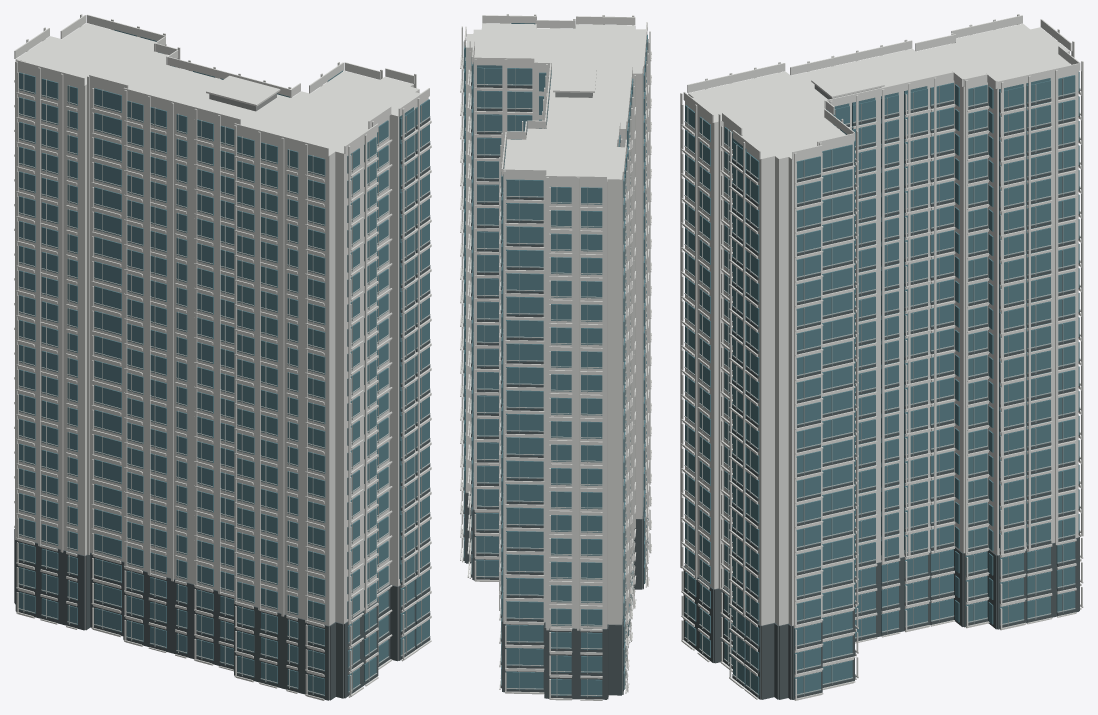
File: bespoke-acro-riverpark-102.glb
3 renders of one model, left to right at view 1: azimuth 30°, elevation 25°; view 2: azimuth 150°, elevation 25°; view 3: azimuth 270°, elevation 25°, orthographic. The views are drawn at different scales.
Parts seen in each view (by area): view 1: editable_Warm_pale_architectural_planes006, editable_Blue_grey_glazing006, editable_Silver_glazing_mullions006, editable_Charcoal_stone_lower_storeys006; view 2: editable_Warm_pale_architectural_planes006, editable_Blue_grey_glazing006, editable_Charcoal_stone_lower_storeys006, editable_Silver_glazing_mullions006; view 3: editable_Blue_grey_glazing006, editable_Warm_pale_architectural_planes006, editable_Charcoal_stone_lower_storeys006, editable_Silver_glazing_mullions006.
Part boxes in pixels (bbox=[...]): editable_Warm_pale_architectural_planes006: bbox=[14, 14, 431, 700]; editable_Blue_grey_glazing006: bbox=[19, 29, 429, 696]; editable_Silver_glazing_mullions006: bbox=[18, 73, 430, 695]; editable_Charcoal_stone_lower_storeys006: bbox=[14, 117, 430, 700]; editable_Warm_pale_architectural_planes006: bbox=[460, 14, 651, 700]; editable_Blue_grey_glazing006: bbox=[464, 23, 647, 696]; editable_Charcoal_stone_lower_storeys006: bbox=[463, 65, 644, 699]; editable_Silver_glazing_mullions006: bbox=[463, 39, 648, 697]; editable_Blue_grey_glazing006: bbox=[685, 72, 1079, 697]; editable_Warm_pale_architectural_planes006: bbox=[680, 14, 1083, 700]; editable_Charcoal_stone_lower_storeys006: bbox=[683, 90, 1079, 699]; editable_Silver_glazing_mullions006: bbox=[684, 78, 1080, 695].
Size of the model in its own units: 42.08 by 77 by 51.33.
